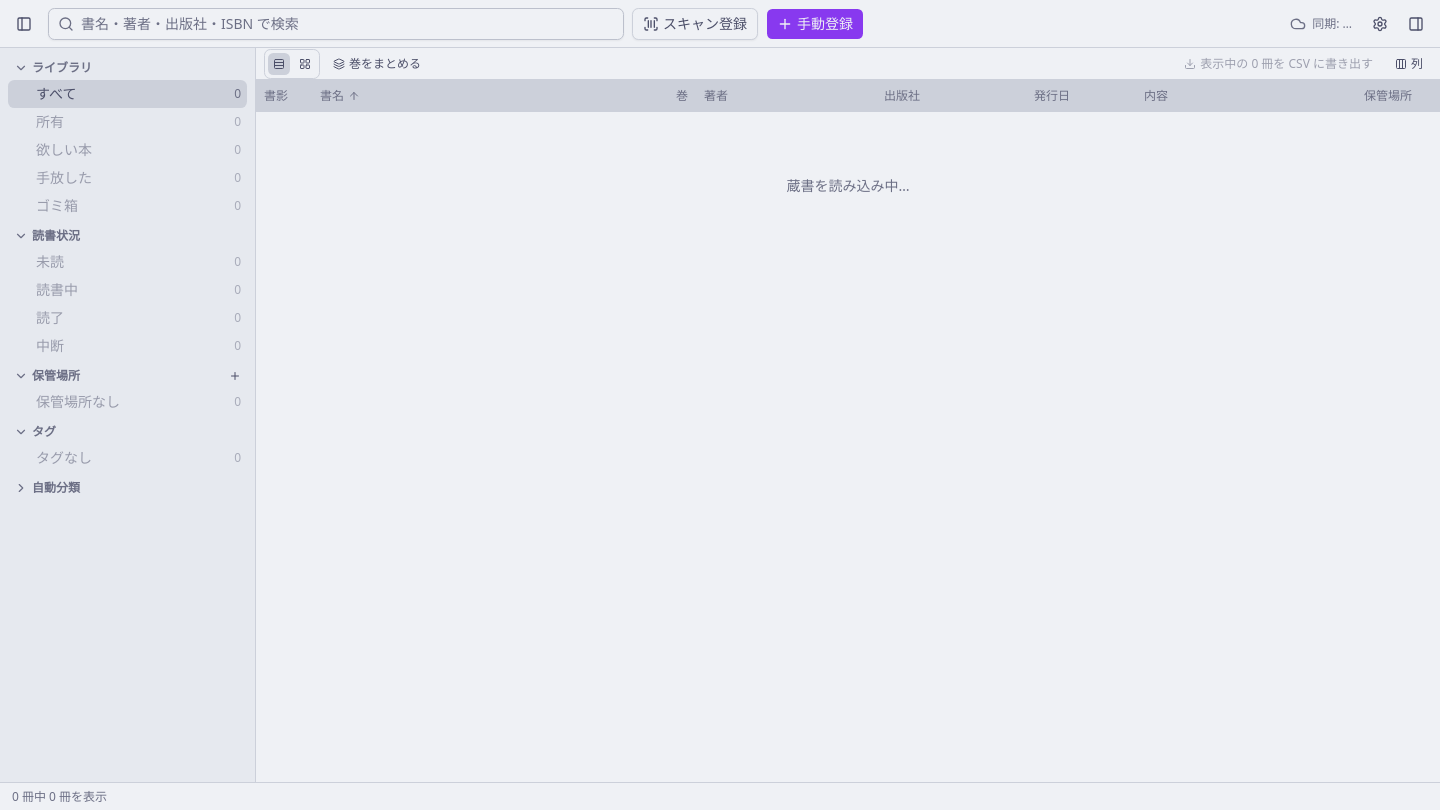
it: メイン画面 › 検索欄の ISBN（FR-SCAN-09） › 未登録の ISBN では、詳細ペインを開かない（開くのは本へ移るときだけ）
This screenshot has width=1440, height=810.
In the search field named "蔵書を検索": (336, 24) x1=48 y1=8 x2=624 y2=40, type "9784140819005"
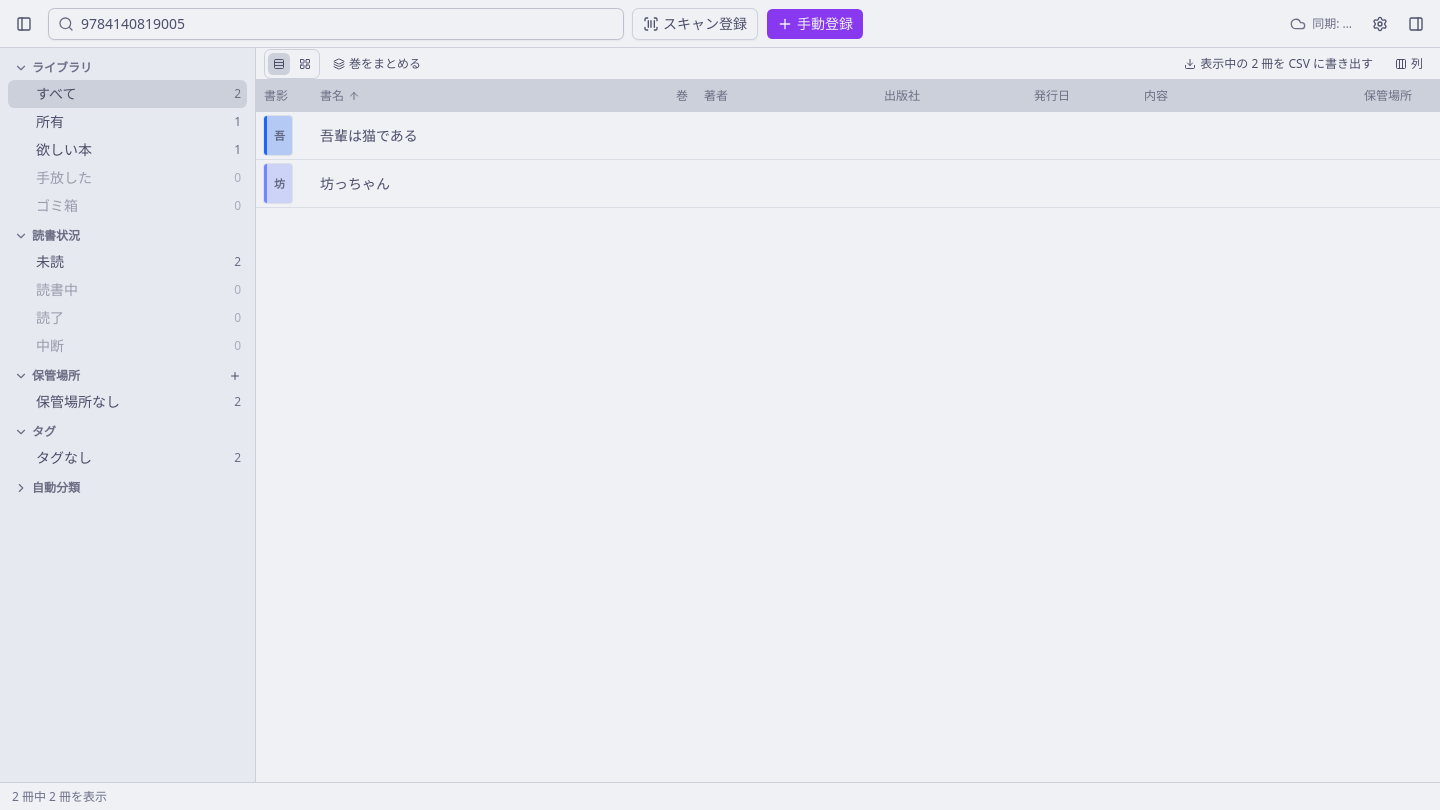
Press Enter in the search field named "蔵書を検索", box x1=48 y1=8 x2=624 y2=40
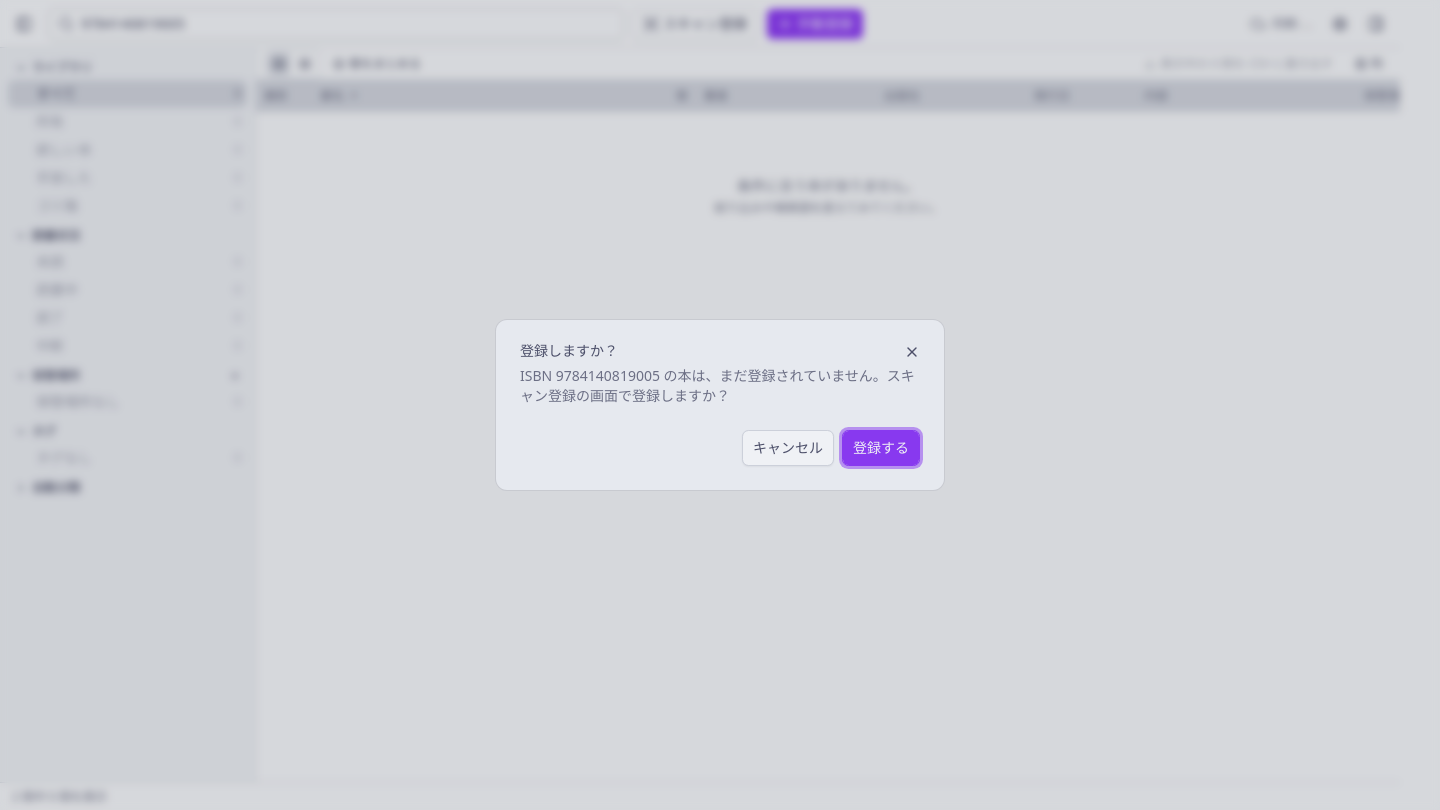
Expected: the heading "登録しますか？" is shown, x1=520 y1=341 x2=618 y2=360
